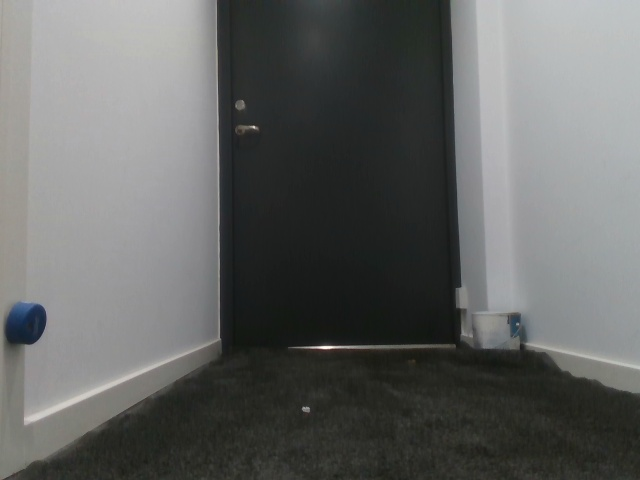alfa: (4, 302, 49, 345)
